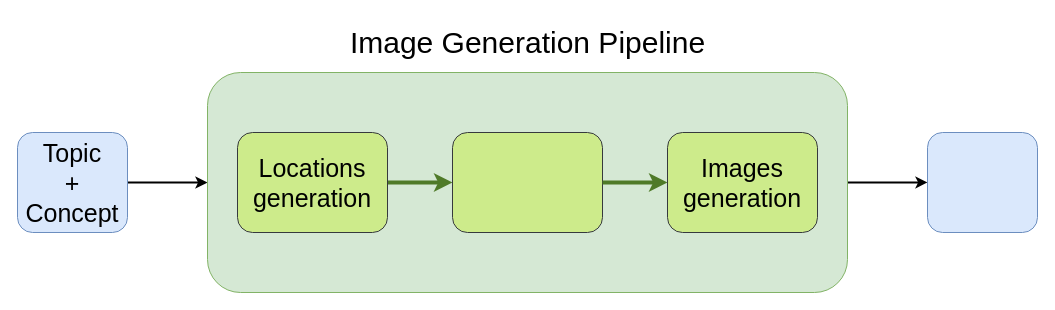
The diagram is 1055 pixels wide and 310 high, and some of its shapes have lost their labels. Each missing label, with the centre of its shape:
Prompts for images generation: [527,182]
Pull of images: [982,182]
